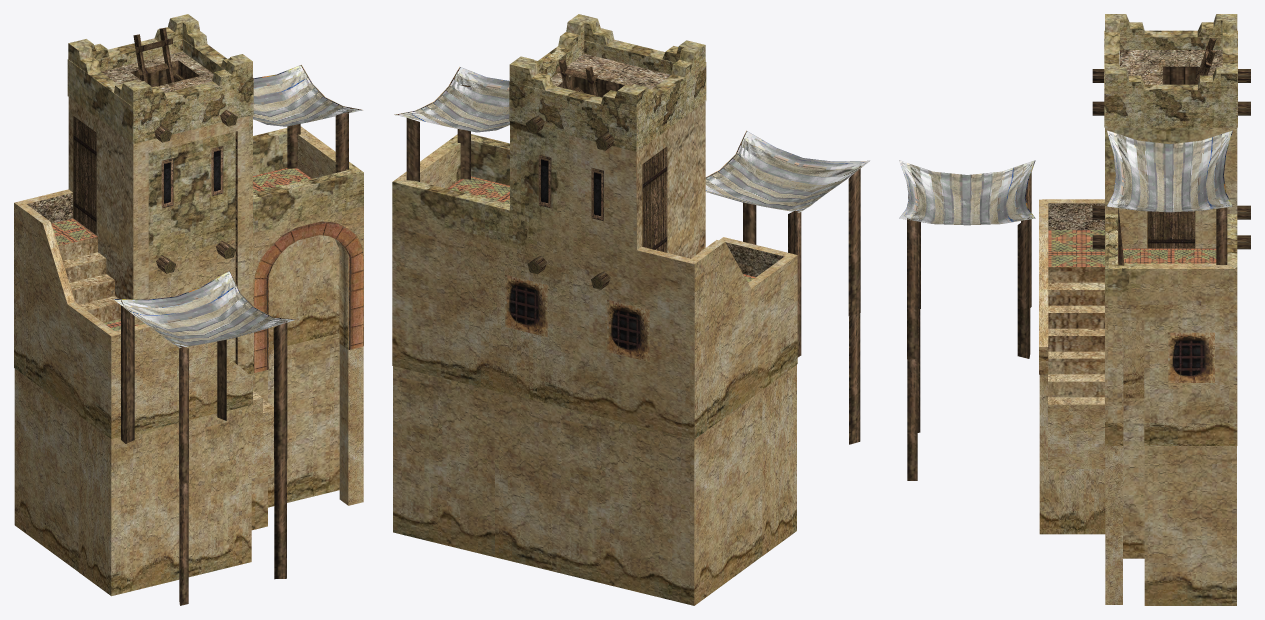
File: pers_storehouse.glb
The picture shows the model from 3 angles, left to right: view 1: azimuth 30°, elevation 25°; view 2: azimuth 150°, elevation 25°; view 3: azimuth 270°, elevation 25°; orthographic projection. The views are drawn at different scales.
Bounding box in the file's own units: 11.94 × 18.81 × 12.45.
Materials: 1 (1 with a texture image).
